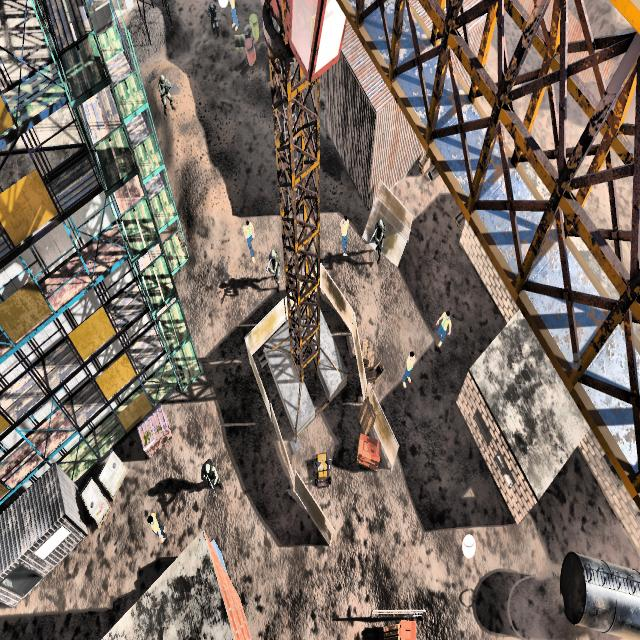bad: (199, 446, 222, 504), (154, 63, 175, 117), (369, 208, 388, 265), (263, 242, 283, 291), (206, 4, 221, 37)
good: (432, 296, 456, 356), (145, 504, 169, 550), (333, 207, 352, 262), (240, 213, 258, 267), (401, 338, 416, 399), (227, 0, 240, 42)
